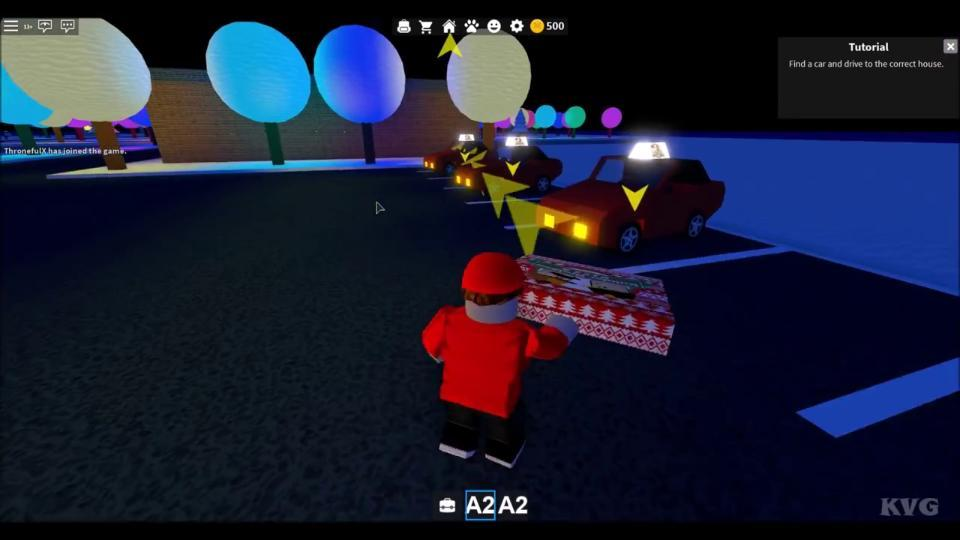Character: (422, 252, 578, 468)
